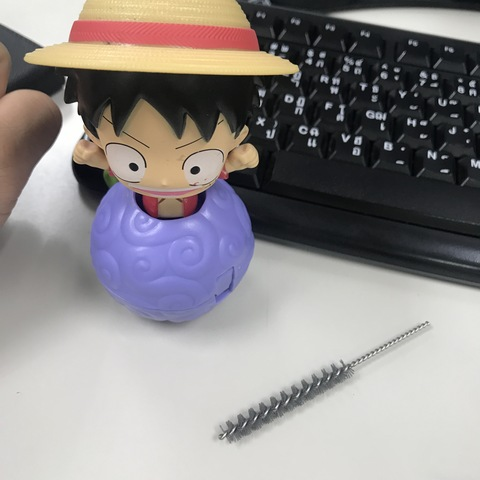Twist Brush-A: (213, 320, 434, 443)
